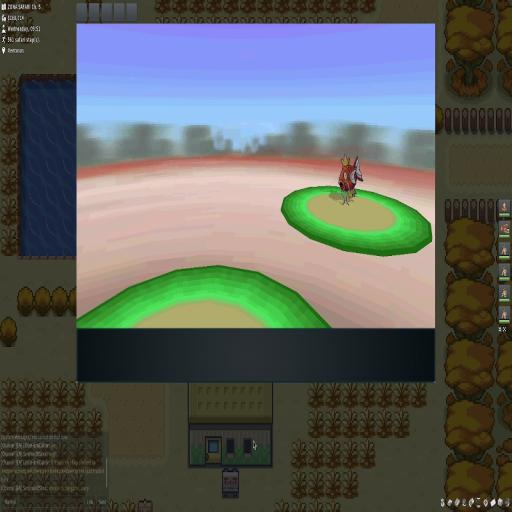MAGIKARP: (336, 156, 364, 207)
